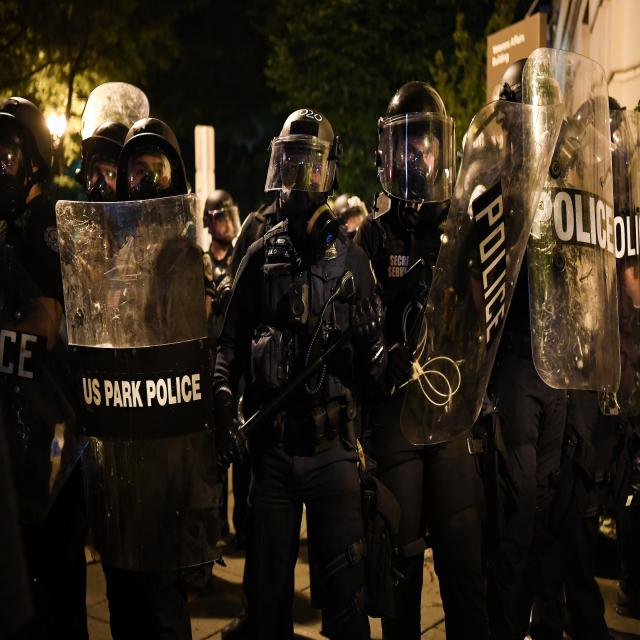police: (54, 75, 234, 640), (473, 27, 624, 640), (212, 65, 368, 640), (356, 65, 501, 640)
